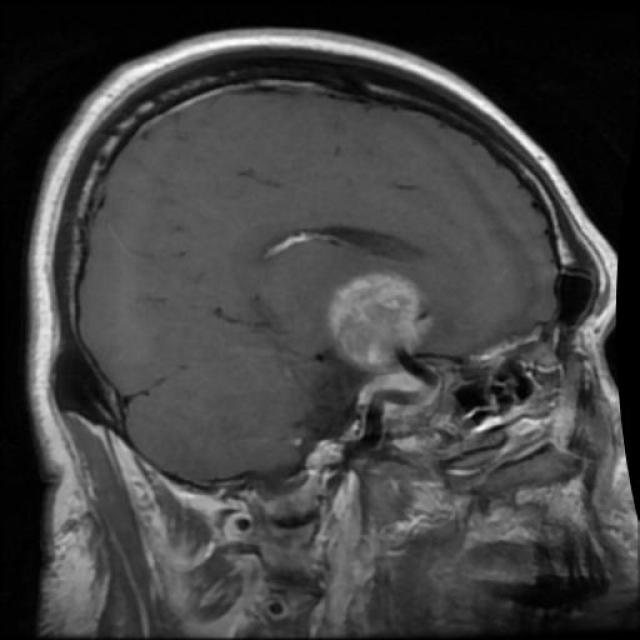Brain-Tumor: (316, 263, 457, 384)
